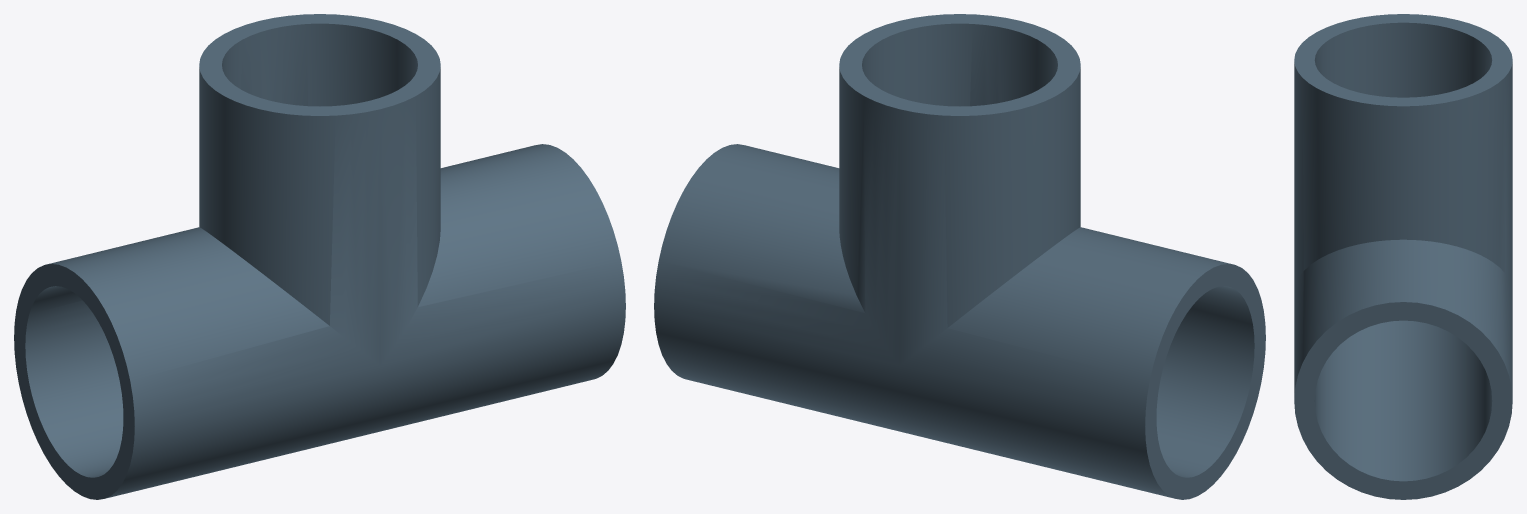
Rendered from trojnik-21_3x2-21_3x2.glb.
The picture shows the model from 3 angles, left to right: view 1: azimuth 30°, elevation 25°; view 2: azimuth 150°, elevation 25°; view 3: azimuth 270°, elevation 25°; orthographic projection. The views are drawn at different scales.
Parts seen in each view (by area): view 1: Open CASCADE STEP translator 7.9 34; view 2: Open CASCADE STEP translator 7.9 34; view 3: Open CASCADE STEP translator 7.9 34.
Boxes of the visible parts, x1,y1,x2,y2 form: Open CASCADE STEP translator 7.9 34: [14, 14, 625, 499]; Open CASCADE STEP translator 7.9 34: [654, 14, 1265, 499]; Open CASCADE STEP translator 7.9 34: [1294, 14, 1512, 499].
Bounding box in the file's own units: 50 × 35.65 × 21.3.
